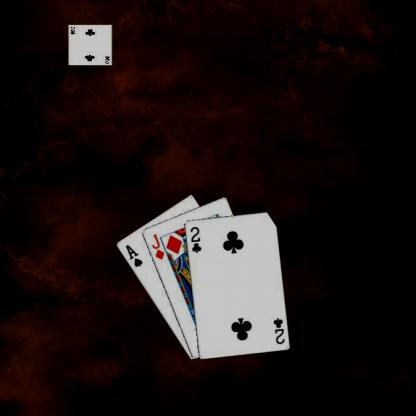2C: (270, 315, 286, 345), (187, 224, 202, 254)
AS: (123, 242, 143, 268)
JD: (149, 232, 165, 261)
